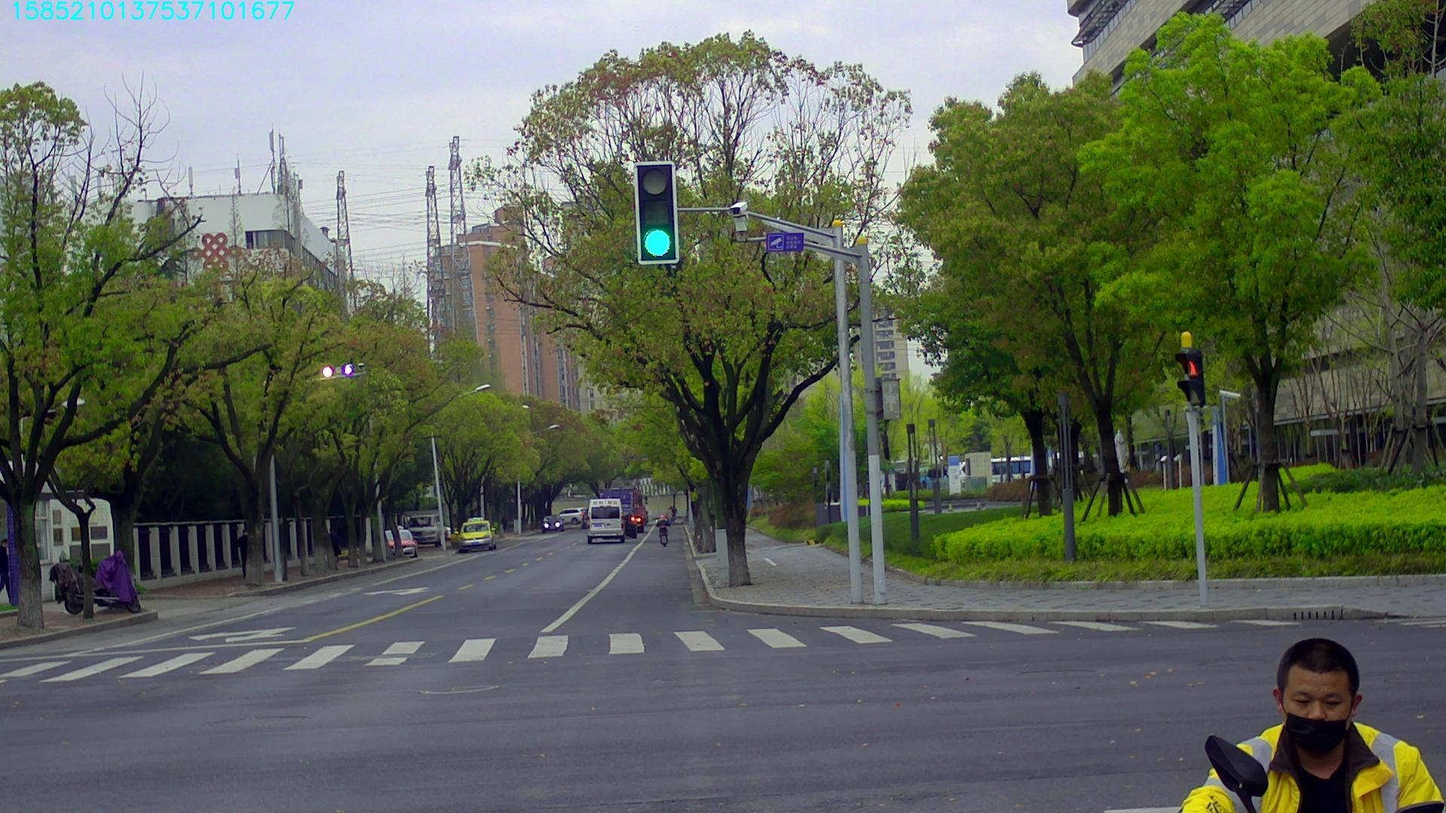green: (636, 163, 677, 261)
